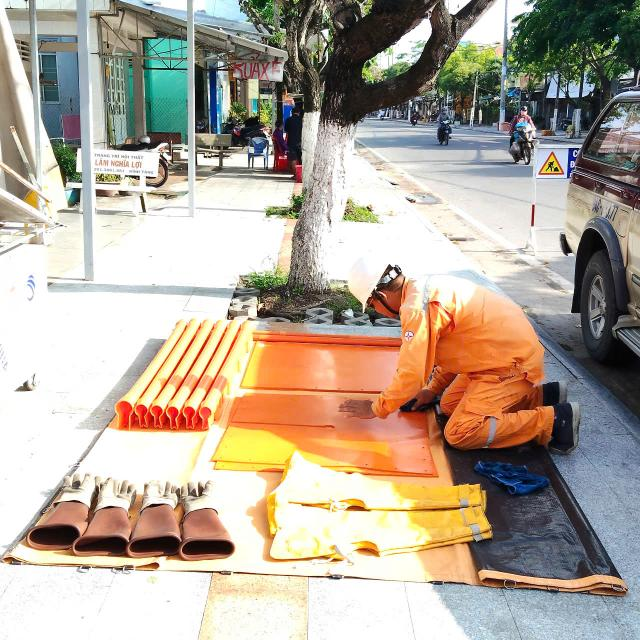helmet: (322, 253, 418, 322)
shoes: (549, 396, 590, 452), (540, 374, 578, 416)
